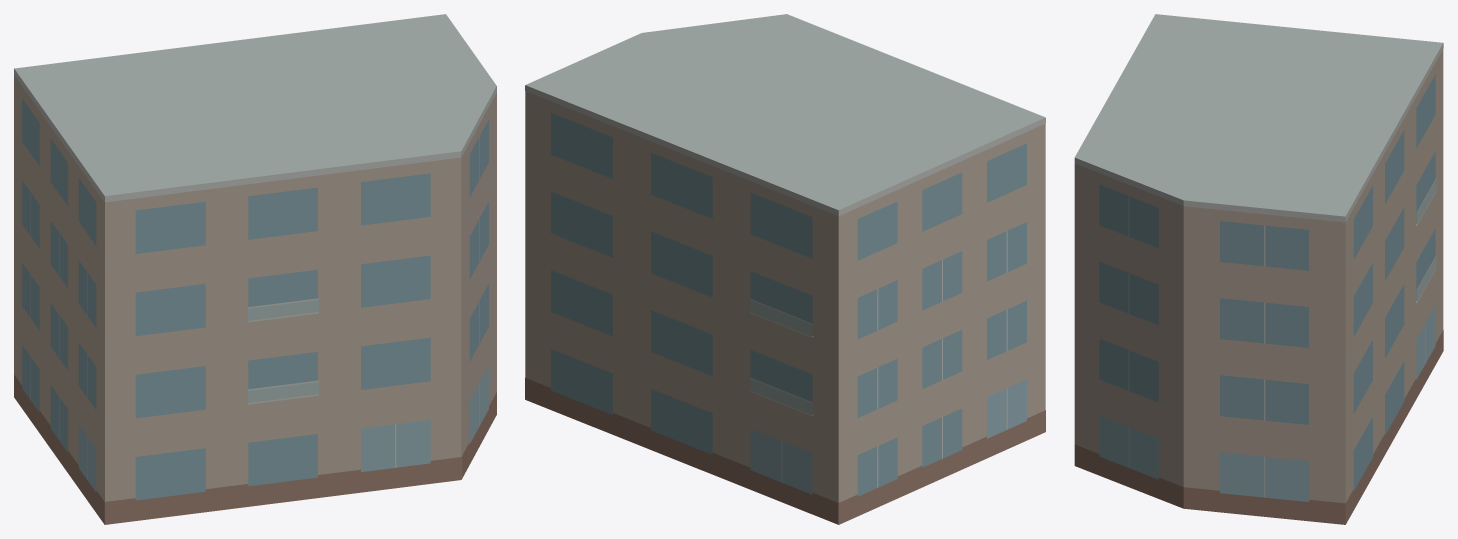
The model's file is survey-upis-33002792.glb.
3 renders of one model, left to right at view 1: azimuth 30°, elevation 25°; view 2: azimuth 150°, elevation 25°; view 3: azimuth 270°, elevation 25°, orthographic. The views are drawn at different scales.
Parts seen in each view (by area): view 1: survey-upis-33002792.tmp; view 2: survey-upis-33002792.tmp; view 3: survey-upis-33002792.tmp.
Part boxes in pixels (<box>): survey-upis-33002792.tmp: <box>14,14,496,524</box>; survey-upis-33002792.tmp: <box>525,14,1045,524</box>; survey-upis-33002792.tmp: <box>1074,14,1443,524</box>.
Size of the model in its own units: 18.04 by 12.8 by 13.89.
